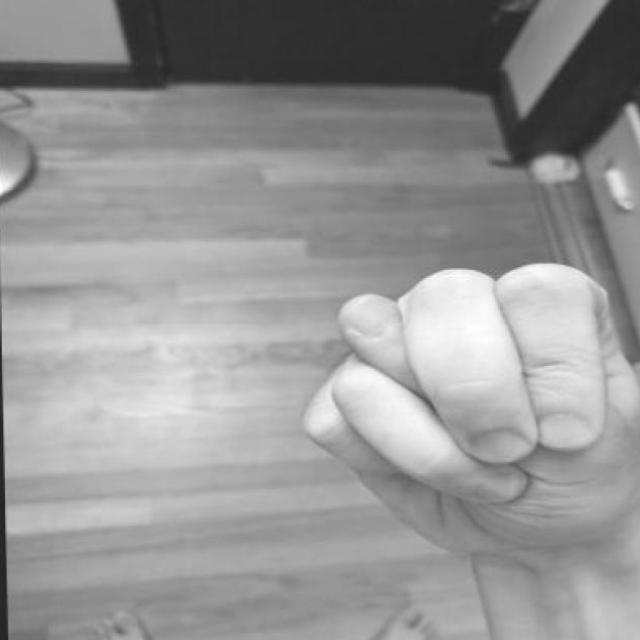N: (287, 246, 640, 603)
